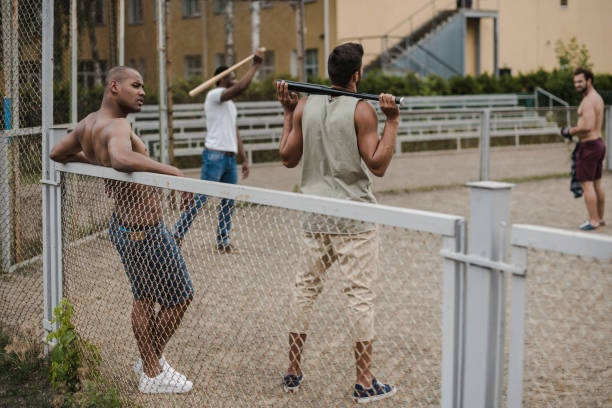bita: (190, 44, 271, 95), (279, 78, 405, 109)
